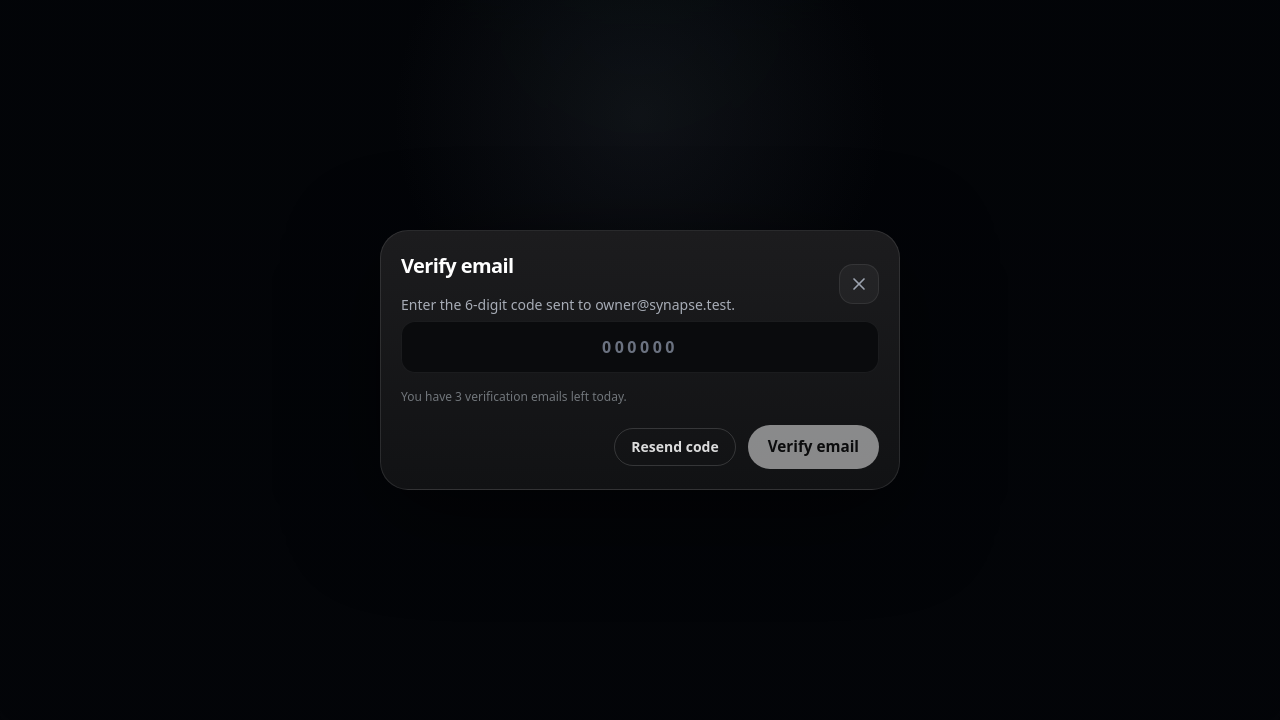
Test: EmailVerificationCodeModal › normalizes codes and reports verify failures
Step 1. Type "12a34b56" into the field named "Email verification code" → (640, 347), box x1=401 y1=321 x2=879 y2=373
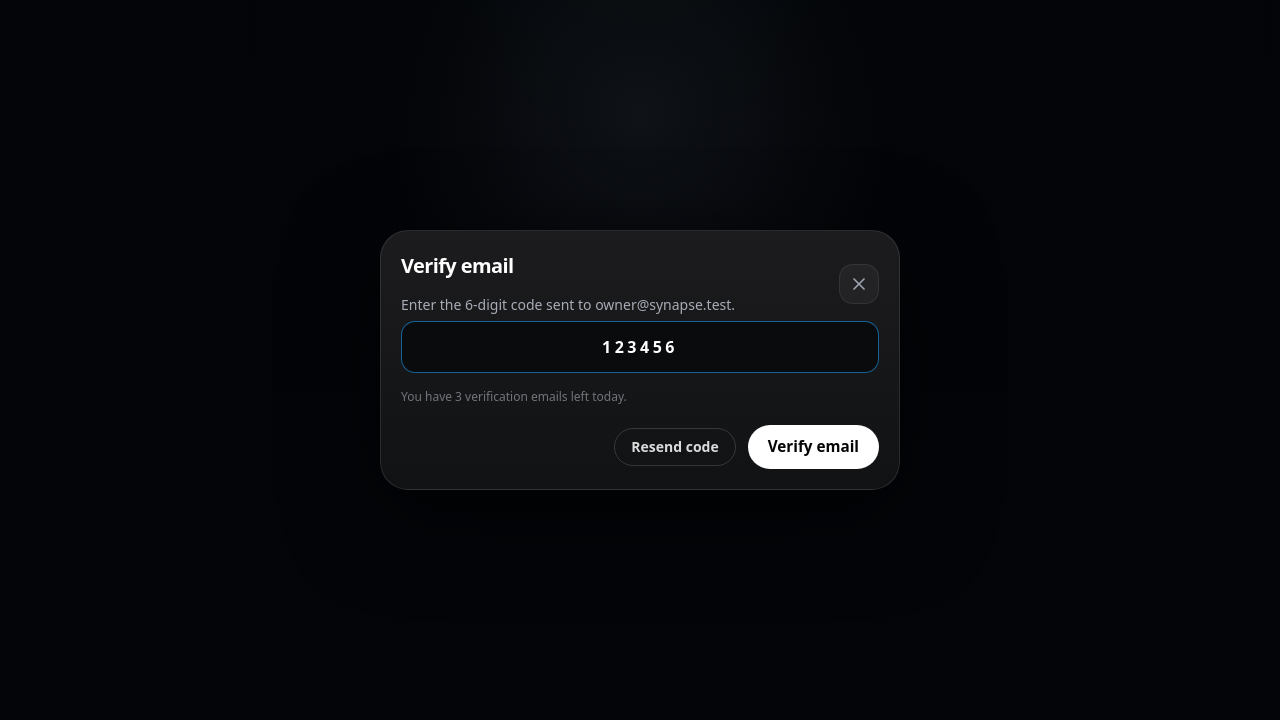
Step 2. Click the button "Verify email" → (813, 447), box x1=748 y1=425 x2=879 y2=469
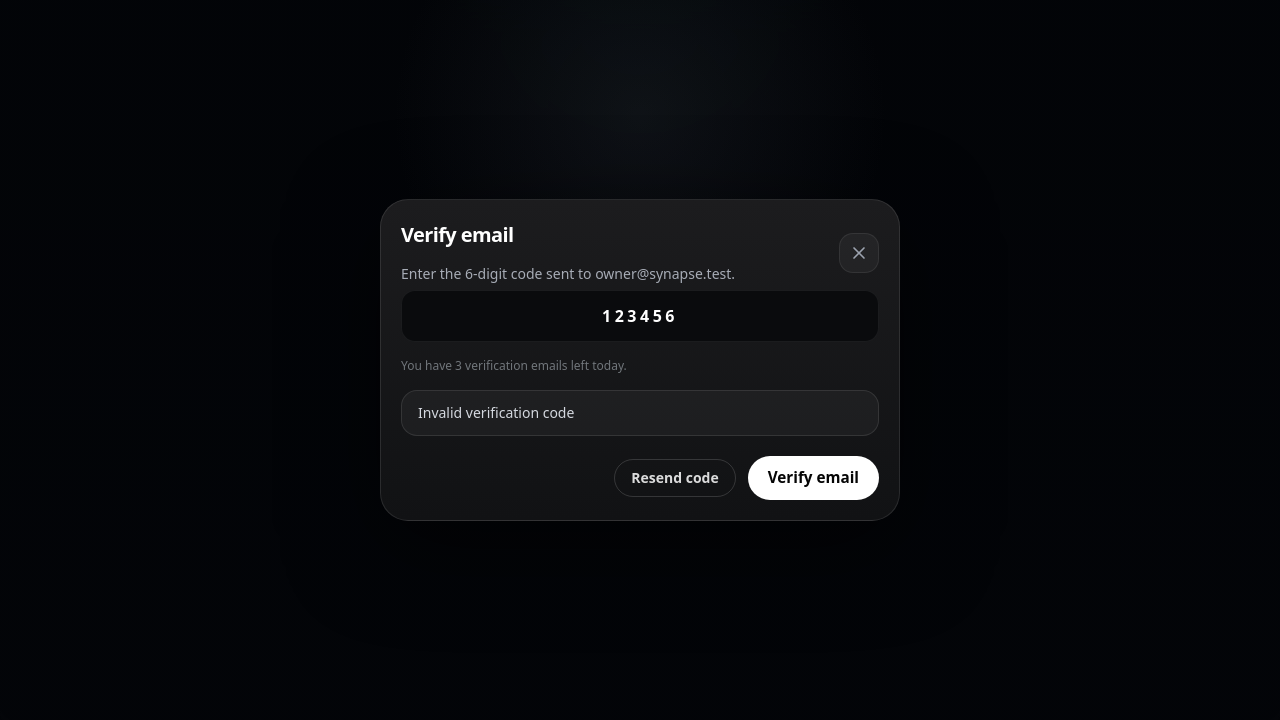
Expected: the text "Invalid verification code" is shown, x1=401 y1=390 x2=879 y2=436
